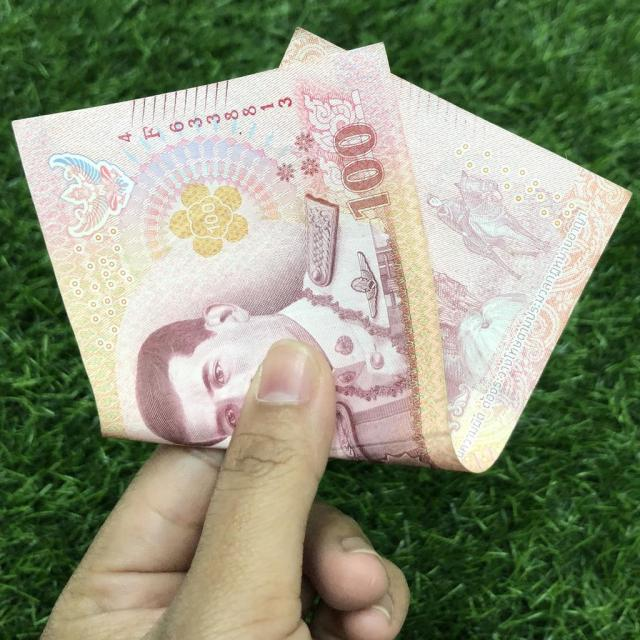THAI100: (14, 31, 629, 471)
